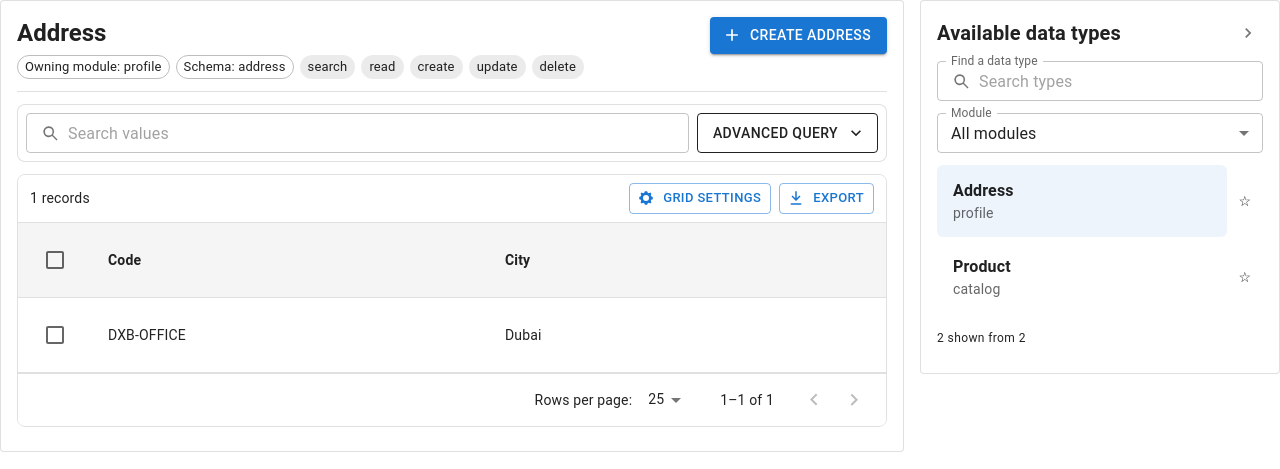
it: SchemaWorkbenchRenderer › filters the data type browser by backend-discovered module
Expected: the button "Address profile" is shown, [937,165,1227,237]
Expected: the button "Product catalog" is shown, [953,257,1011,297]
Click the dropdown labelled "module": (994, 133) [951,124,1036,142]
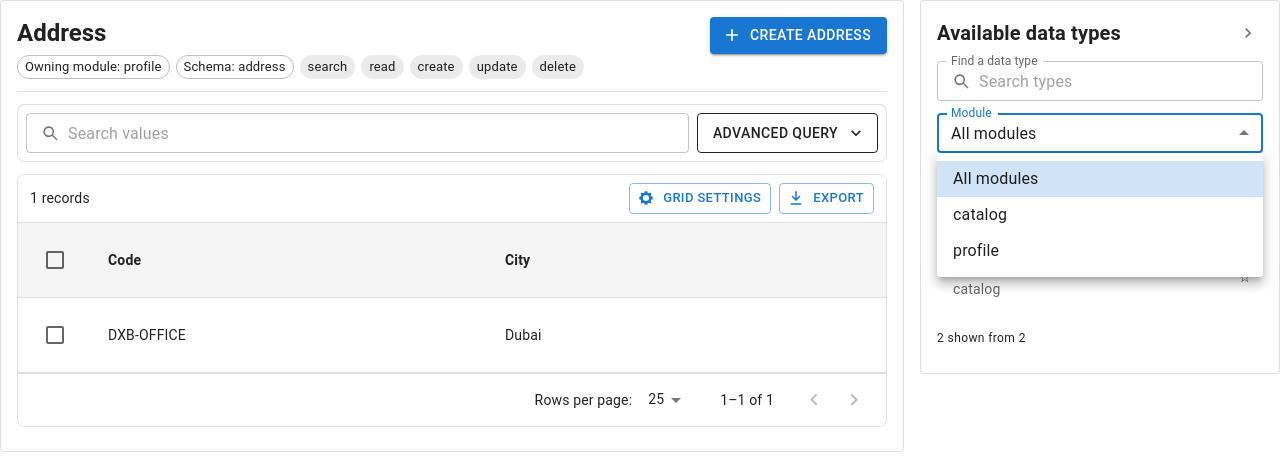
Click the option "catalog": (980, 214) [953,205,1007,224]
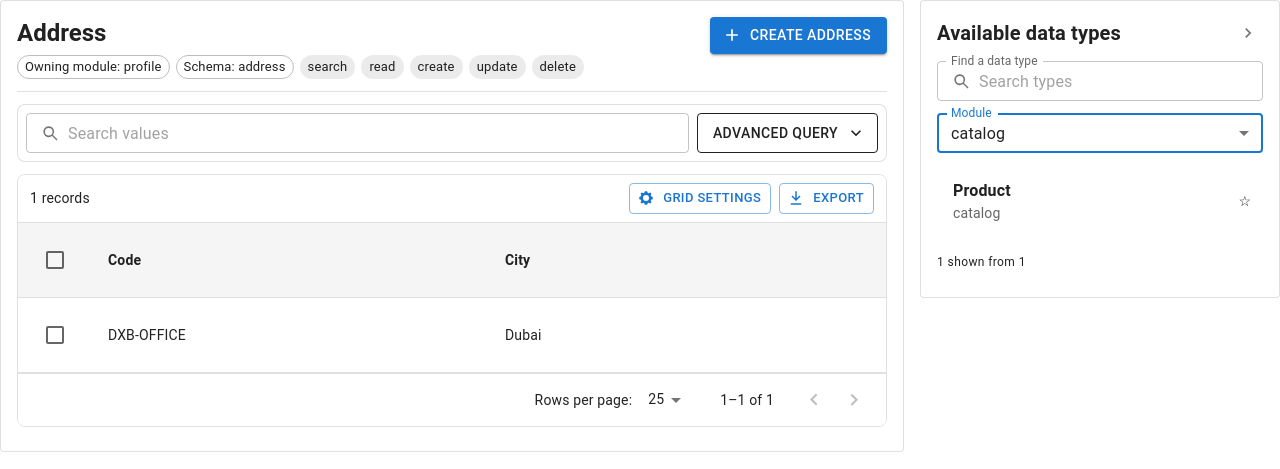
Expected: the button "Product catalog" is shown, [953,181,1011,221]
Expected: the button "Address profile" is gone
